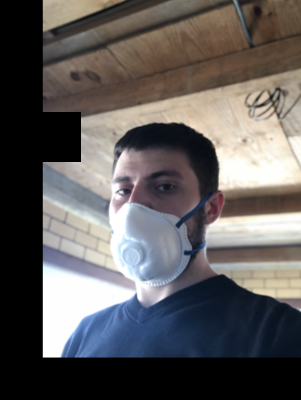with_mask: (108, 162, 198, 287)
